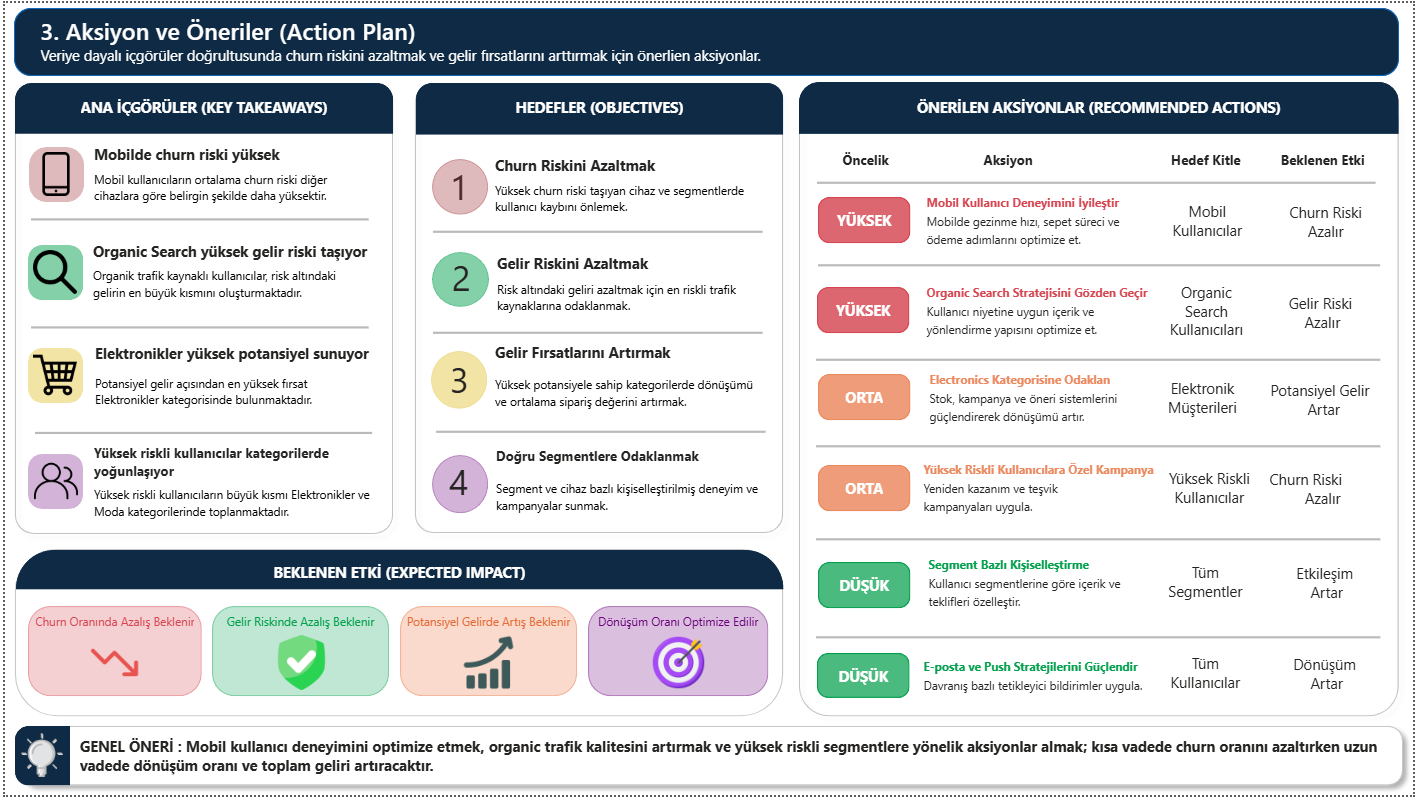

What the dashboard file says about the page in this screenshot:
{"tool":"powerbi","page":{"name":"Öngörü","canvas":[1280,720],"ordinal":2},"visuals":[{"type":"shape","box":[8.2,4.5,1259.1,61.8],"z":0,"group":"g25"},{"type":"group","id":"g1","title":"ana içgörü çerçeve","box":[0,64.5,361.8,427.2],"z":0},{"type":"shape","box":[0,64.5,361.8,427.2],"z":0,"group":"g1"},{"type":"shape","box":[363.6,64.5,352.8,426.3],"z":0,"group":"g2"},{"type":"shape","box":[712.8,69.9,563.3,587.5],"z":0,"group":"g3"},{"type":"shape","title":"Mobilde churn riski yüksek","box":[80.4,128.9,253.8,54.6],"z":0,"group":"g13"},{"type":"textbox","box":[386.9,138.9,51.6,54.6],"z":0,"group":"g16"},{"type":"shape","box":[738.8,176.5,84,42],"z":0,"group":"g4"},{"type":"shape","box":[23.2,187.3,306.9,18.9],"z":0,"group":"g15"},{"type":"shape","box":[388.7,198.7,299.6,17.8],"z":0,"group":"g20"},{"type":"shape","box":[20.5,220.3,50.1,50.1],"z":0,"group":"g12"},{"type":"shape","box":[387.8,226.2,51.8,49.9],"z":0,"group":"g17"},{"type":"shape","box":[737.9,258,84,42],"z":0,"group":"g5"},{"type":"shape","box":[20.6,313.1,50,50],"z":0,"group":"g11"},{"type":"shape","box":[387.1,317,51.2,52.5],"z":0,"group":"g18"},{"type":"shape","box":[738.8,336.9,84,42],"z":0,"group":"g6"},{"type":"shape","box":[737,389.4,513,26],"z":0,"group":"g10"},{"type":"shape","box":[20.5,410.3,50,50],"z":0,"group":"g14"},{"type":"shape","box":[387.7,410.8,51.1,53],"z":0,"group":"g19"},{"type":"shape","box":[738.8,420.3,84,42],"z":0,"group":"g7"},{"type":"shape","box":[738.8,507.4,84,42],"z":0,"group":"g8"},{"type":"shape","box":[737.9,590.9,84.2,40.8],"z":0,"group":"g9"},{"type":"textbox","box":[27.1,5,687.3,57.3],"z":1000,"group":"g25"},{"type":"group","id":"g2","title":"hedefler çerçeve","box":[363.6,64.5,352.8,426.3],"z":1000},{"type":"shape","box":[721.9,71.6,545.4,47.5],"z":1000,"group":"g3"},{"type":"shape","box":[9,72.3,343.8,46.2],"z":1000,"group":"g1"},{"type":"shape","box":[373.6,72.3,333.8,47],"z":1000,"group":"g2"},{"type":"shape","box":[21.5,130.7,50.1,50.1],"z":1000,"group":"g13"},{"type":"shape","title":"Churn Riskini Azaltmak","box":[445.5,138.9,247.9,54.6],"z":1000,"group":"g16"},{"type":"shape","box":[737.9,149.6,507.8,26.9],"z":1000,"group":"g10"},{"type":"textbox","box":[832.6,166.1,191.6,61.8],"z":1000,"group":"g4"},{"type":"image","box":[25.4,225.2,40.3,40.3],"z":1000,"group":"g12"},{"type":"shape","title":"Gelir Riskini Azaltmak","box":[446.5,228.2,247.5,55.4],"z":1000,"group":"g17"},{"type":"textbox","box":[832.5,248.1,217.6,69.9],"z":1000,"group":"g5"},{"type":"shape","box":[23.2,285.2,306.9,18.9],"z":1000,"group":"g15"},{"type":"shape","box":[388.7,290.8,299.6,17.8],"z":1000,"group":"g20"},{"type":"shape","title":"Gelir Fırsatlarını Artırmak","box":[445.4,309.3,247.9,69],"z":1000,"group":"g18"},{"type":"image","box":[25.3,318.5,40,40],"z":1000,"group":"g11"},{"type":"textbox","box":[835.3,327.1,197,67.2],"z":1000,"group":"g6"},{"type":"shape","title":"Doğru Segmentlere Odaklanmak","box":[445.8,403.9,247.9,69],"z":1000,"group":"g19"},{"type":"textbox","box":[829.8,409.3,238,61],"z":1000,"group":"g7"},{"type":"image","box":[25.5,415.3,40,40],"z":1000,"group":"g14"},{"type":"textbox","box":[834.4,495,191.6,66.3],"z":1000,"group":"g8"},{"type":"textbox","box":[829.7,588.5,223,46.5],"z":1000,"group":"g9"},{"type":"group","id":"g3","title":"önerilen aksiyonlar çerçeve","box":[712.8,69.9,563.3,587.5],"z":2000},{"type":"image","box":[26.4,135.6,40.3,40.3],"z":2000,"group":"g13"},{"type":"shape","box":[388,141.3,51.1,50.6],"z":2000,"group":"g16"},{"type":"textbox","box":[1043.8,175.5,97,49],"z":2000,"group":"g4"},{"type":"shape","title":"Organic Search yüksek gelir riski taşıyor","box":[79.6,217.6,250.2,54.6],"z":2000,"group":"g12"},{"type":"textbox","box":[389.2,221.8,49.7,54.9],"z":2000,"group":"g17"},{"type":"textbox","box":[1042.9,249,97,63],"z":2000,"group":"g5"},{"type":"shape","title":"Elektronikler yüksek potansiyel sunuyor","box":[81.9,309.9,252.5,63.6],"z":2000,"group":"g11"},{"type":"textbox","box":[386.9,314.6,51.9,55.5],"z":2000,"group":"g18"},{"type":"textbox","box":[1039.8,336.5,97,58.7],"z":2000,"group":"g6"},{"type":"shape","box":[391.8,380.6,299.6,17.8],"z":2000,"group":"g20"},{"type":"shape","box":[26.5,381.4,306.5,18.1],"z":2000,"group":"g15"},{"type":"shape","title":"Yüksek riskli kullanıcılar kategorilerde yoğunlaşıyor","box":[80.7,401.3,254.2,69],"z":2000,"group":"g14"},{"type":"textbox","box":[386.9,407.9,51.1,54.7],"z":2000,"group":"g19"},{"type":"textbox","box":[1045.8,418.3,97,54],"z":2000,"group":"g7"},{"type":"shape","box":[737,474.4,513,26],"z":2000,"group":"g10"},{"type":"textbox","box":[1042.8,503,97,58.7],"z":2000,"group":"g8"},{"type":"textbox","box":[1042.7,586.6,97,56.9],"z":2000,"group":"g9"},{"type":"textbox","box":[746,128.1,506,26.9],"z":3000},{"type":"textbox","box":[1148.8,176.5,103,45],"z":3000,"group":"g4"},{"type":"shape","box":[738.8,224.8,511.3,26],"z":3000,"group":"g10"},{"type":"textbox","box":[1144.4,259,102.5,49.9],"z":3000,"group":"g5"},{"type":"textbox","box":[1144.8,337.7,103,53.9],"z":3000,"group":"g6"},{"type":"textbox","box":[1143.8,419.3,103,49.9],"z":3000,"group":"g7"},{"type":"textbox","box":[1147.8,504.2,103,53.9],"z":3000,"group":"g8"},{"type":"textbox","box":[1147.7,587.8,103,52.3],"z":3000,"group":"g9"},{"type":"shape","box":[0,487.2,716.4,170.1],"z":4000},{"type":"shape","box":[737,563.4,513,26],"z":4000,"group":"g10"},{"type":"shape","box":[737,310.8,513.1,26.9],"z":5000,"group":"g10"},{"type":"shape","box":[9.9,497,697.6,35.8],"z":5000},{"type":"shape","title":"Churn Oranı ","box":[21.1,548,158,82],"z":6000,"group":"g24"},{"type":"shape","box":[0,648,1280,72],"z":6000},{"type":"shape","box":[188.1,548,161,82],"z":7000,"group":"g23"},{"type":"shape","box":[9,657,50,54],"z":7000},{"type":"shape","box":[359.1,548,161,82],"z":8000,"group":"g22"},{"type":"image","box":[14,664,40,40],"z":8000},{"type":"group","id":"g4","title":"Grup 1","box":[738.8,166.1,513,61.8],"z":9000},{"type":"shape","box":[530.1,548,164,82],"z":9000,"group":"g21"},{"type":"group","id":"g5","title":"Grup 2","box":[737.9,248.1,509,69.9],"z":10000},{"type":"image","box":[587.1,574,50,50],"z":10000,"group":"g21"},{"type":"group","id":"g6","title":"Grup 3","box":[738.8,327.1,509,68.1],"z":11000},{"type":"image","box":[75.1,574,50,50],"z":11000,"group":"g24"},{"type":"group","id":"g7","title":"Grup 4","box":[738.8,409.3,507.8,63.6],"z":12000},{"type":"image","box":[244.1,574,50,50],"z":12000,"group":"g23"},{"type":"group","id":"g8","title":"Grup 5","box":[738.8,495,512,66.7],"z":13000},{"type":"image","box":[414.1,574,50,50],"z":13000,"group":"g22"},{"type":"group","id":"g9","title":"Grup 6","box":[737.9,586.6,513.1,57.3],"z":14000},{"type":"group","id":"g10","title":"Aksiyon Çizgiler","box":[737,149.6,513.1,439.8],"z":15000},{"type":"group","id":"g11","title":"elektronik yüksek","box":[20.6,309.9,313.9,63.6],"z":16000},{"type":"group","id":"g12","title":"organik search yüksek","box":[20.5,217.6,309.3,54.6],"z":17000},{"type":"group","id":"g13","title":"mobil churn yüksek","box":[21.5,128.9,312.7,54.6],"z":18000},{"type":"group","id":"g14","title":"yüksek riskli kullanıcılar kategori","box":[20.5,401.3,314.5,69],"z":19000},{"type":"group","id":"g15","title":"ana içgörü çizgileri","box":[23.2,187.3,309.9,212.2],"z":20000},{"type":"group","id":"g16","title":"churn riskini azaltmak","box":[386.9,138.9,307.2,54.6],"z":21000},{"type":"group","id":"g17","title":"gelir riskini azaltmak","box":[387.8,221.8,306.3,61.8],"z":22000},{"type":"group","id":"g18","title":"gelir fırsatlarını artırmak","box":[386.9,309.3,307.2,69],"z":23000},{"type":"group","id":"g19","title":"doğru segmentlere odaklanmak","box":[386.9,403.9,307.2,69],"z":24000},{"type":"group","id":"g20","title":"hedefler çizgiler","box":[388.7,198.7,302.7,199.7],"z":25000},{"type":"group","id":"g21","title":"Grup 7","box":[530.1,548,164,82],"z":26000},{"type":"group","id":"g22","title":"Grup 8","box":[359.1,548,161,82],"z":27000},{"type":"group","id":"g23","title":"Grup 9","box":[188.1,548,161,82],"z":28000},{"type":"group","id":"g24","title":"Grup 10","box":[21.1,548,158,82],"z":29000},{"type":"group","id":"g25","title":"Başlık","box":[8.2,4.5,1259.1,61.8],"z":30000}]}

Visuals, with their boxes in screenshot pixels (x1, y1, x2, y2), scaled from the page's 1280x720 canvas onto the 1419x800 screenshot:
shape: <box>9,5,1405,74</box>
"ana içgörü çerçeve" group: <box>0,72,401,546</box>
shape: <box>0,72,401,546</box>
shape: <box>403,72,794,545</box>
shape: <box>790,78,1415,730</box>
"Mobilde churn riski yüksek" shape: <box>89,143,370,204</box>
textbox: <box>429,154,486,215</box>
shape: <box>819,196,912,243</box>
shape: <box>26,208,366,229</box>
shape: <box>431,221,763,241</box>
shape: <box>23,245,78,300</box>
shape: <box>430,251,487,307</box>
shape: <box>818,287,911,333</box>
shape: <box>23,348,78,403</box>
shape: <box>429,352,486,411</box>
shape: <box>819,374,912,421</box>
shape: <box>817,433,1386,462</box>
shape: <box>23,456,78,511</box>
shape: <box>430,456,486,515</box>
shape: <box>819,467,912,514</box>
shape: <box>819,564,912,610</box>
shape: <box>818,657,911,702</box>
textbox: <box>30,6,792,69</box>
"hedefler çerçeve" group: <box>403,72,794,545</box>
shape: <box>800,80,1405,132</box>
shape: <box>10,80,391,132</box>
shape: <box>414,80,784,133</box>
shape: <box>24,145,79,201</box>
"Churn Riskini Azaltmak" shape: <box>494,154,769,215</box>
shape: <box>818,166,1381,196</box>
textbox: <box>923,185,1135,253</box>
image: <box>28,250,73,295</box>
"Gelir Riskini Azaltmak" shape: <box>495,254,769,315</box>
textbox: <box>923,276,1164,353</box>
shape: <box>26,317,366,338</box>
shape: <box>431,323,763,343</box>
"Gelir Fırsatlarını Artırmak" shape: <box>494,344,769,420</box>
image: <box>28,354,72,398</box>
textbox: <box>926,363,1144,438</box>
"Doğru Segmentlere Odaklanmak" shape: <box>494,449,769,525</box>
textbox: <box>920,455,1184,523</box>
image: <box>28,461,73,506</box>
textbox: <box>925,550,1137,624</box>
textbox: <box>920,654,1167,706</box>
"önerilen aksiyonlar çerçeve" group: <box>790,78,1415,730</box>
image: <box>29,151,74,195</box>
shape: <box>430,157,487,213</box>
textbox: <box>1157,195,1265,249</box>
"Organic Search yüksek gelir riski taşıyor" shape: <box>88,242,366,302</box>
textbox: <box>431,246,487,307</box>
textbox: <box>1156,277,1264,347</box>
"Elektronikler yüksek potansiyel sunuyor" shape: <box>91,344,371,415</box>
textbox: <box>429,350,486,411</box>
textbox: <box>1153,374,1260,439</box>
shape: <box>434,423,766,443</box>
shape: <box>29,424,369,444</box>
"Yüksek riskli kullanıcılar kategorilerde yoğunlaşıyor" shape: <box>89,446,371,523</box>
textbox: <box>429,453,486,514</box>
textbox: <box>1159,465,1267,525</box>
shape: <box>817,527,1386,556</box>
textbox: <box>1156,559,1264,624</box>
textbox: <box>1156,652,1263,715</box>
textbox: <box>827,142,1388,172</box>
textbox: <box>1274,196,1388,246</box>
shape: <box>819,250,1386,279</box>
textbox: <box>1269,288,1382,343</box>
textbox: <box>1269,375,1383,435</box>
textbox: <box>1268,466,1382,521</box>
textbox: <box>1272,560,1387,620</box>
textbox: <box>1272,653,1387,711</box>
shape: <box>0,541,794,730</box>
shape: <box>817,626,1386,655</box>
shape: <box>817,345,1386,375</box>
shape: <box>11,552,784,592</box>
"Churn Oranı " shape: <box>23,609,199,700</box>
shape: <box>0,720,1418,799</box>
shape: <box>209,609,387,700</box>
shape: <box>10,730,65,790</box>
shape: <box>398,609,577,700</box>
image: <box>16,738,60,782</box>
"Grup 1" group: <box>819,185,1388,253</box>
shape: <box>588,609,769,700</box>
"Grup 2" group: <box>818,276,1382,353</box>
image: <box>651,638,706,693</box>
"Grup 3" group: <box>819,363,1383,439</box>
image: <box>83,638,139,693</box>
"Grup 4" group: <box>819,455,1382,525</box>
image: <box>271,638,326,693</box>
"Grup 5" group: <box>819,550,1387,624</box>
image: <box>459,638,514,693</box>
"Grup 6" group: <box>818,652,1387,715</box>
"Aksiyon Çizgiler" group: <box>817,166,1386,655</box>
"elektronik yüksek" group: <box>23,344,371,415</box>
"organik search yüksek" group: <box>23,242,366,302</box>
"mobil churn yüksek" group: <box>24,143,370,204</box>
"yüksek riskli kullanıcılar kategori" group: <box>23,446,371,523</box>
"ana içgörü çizgileri" group: <box>26,208,369,444</box>
"churn riskini azaltmak" group: <box>429,154,769,215</box>
"gelir riskini azaltmak" group: <box>430,246,769,315</box>
"gelir fırsatlarını artırmak" group: <box>429,344,769,420</box>
"doğru segmentlere odaklanmak" group: <box>429,449,769,525</box>
"hedefler çizgiler" group: <box>431,221,766,443</box>
"Grup 7" group: <box>588,609,769,700</box>
"Grup 8" group: <box>398,609,577,700</box>
"Grup 9" group: <box>209,609,387,700</box>
"Grup 10" group: <box>23,609,199,700</box>
"Başlık" group: <box>9,5,1405,74</box>
